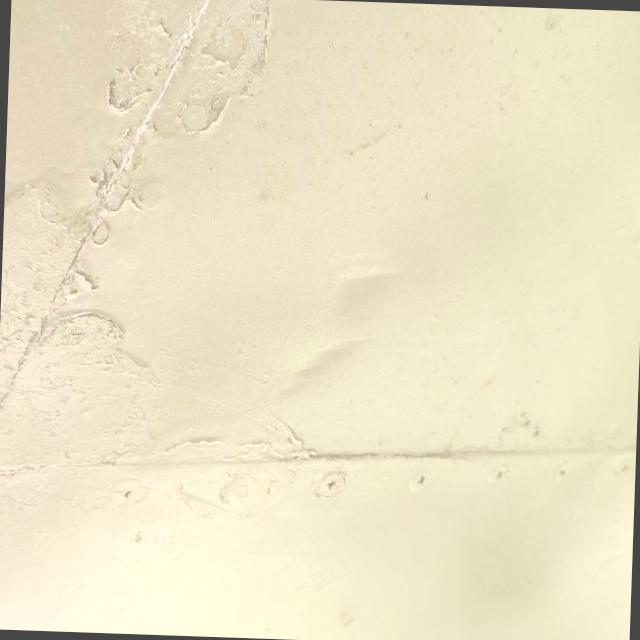dent: (256, 322, 392, 428)
